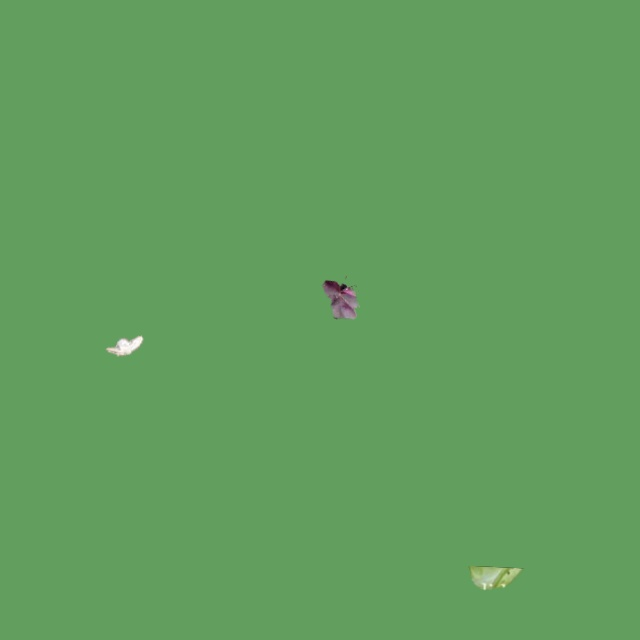butterfly flower: (323, 276, 359, 318)
jasmine: (106, 335, 142, 356)
passion flower: (469, 566, 522, 589)
